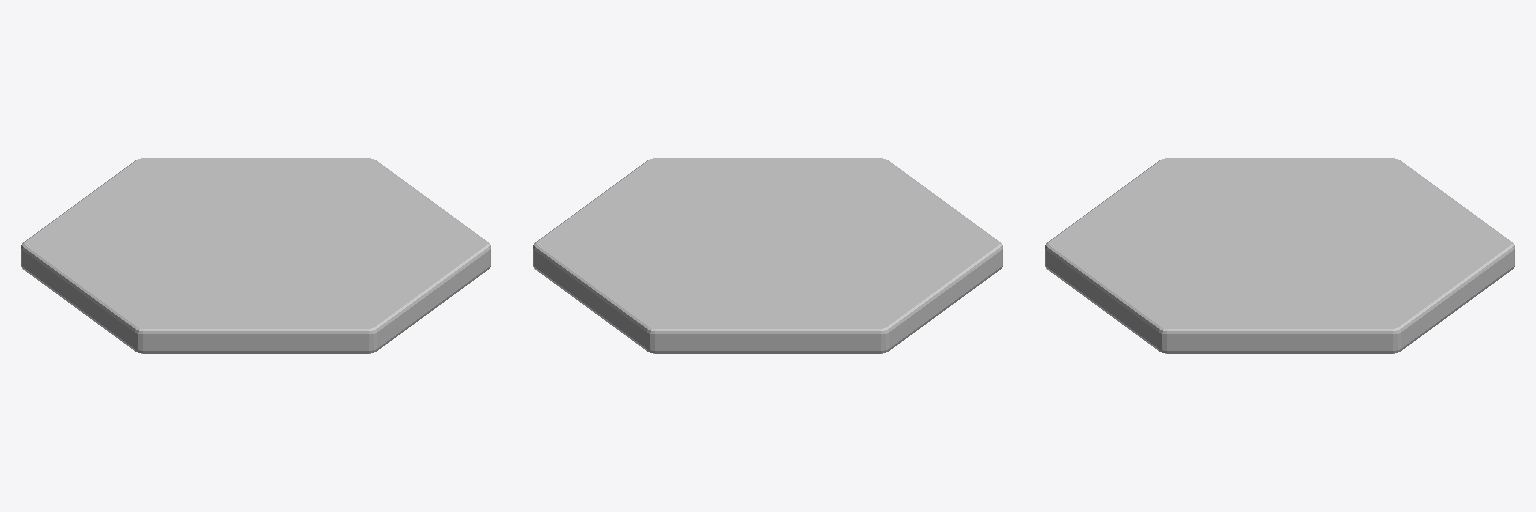
Rendered from plataforma.obj.
3 views of the same model, side by side, from view 1: azimuth 30°, elevation 25°; view 2: azimuth 150°, elevation 25°; view 3: azimuth 270°, elevation 25° (orthographic).
Parts seen in each view (by area): view 1: pDisc1; view 2: pDisc1; view 3: pDisc1.
Boxes of the visible parts, box(x1,y1,x2,y2) form: pDisc1: box(21, 158, 490, 353); pDisc1: box(533, 158, 1002, 353); pDisc1: box(1045, 158, 1514, 353).
Bounding box in the file's own units: 1.77 × 0.1188 × 2.03.